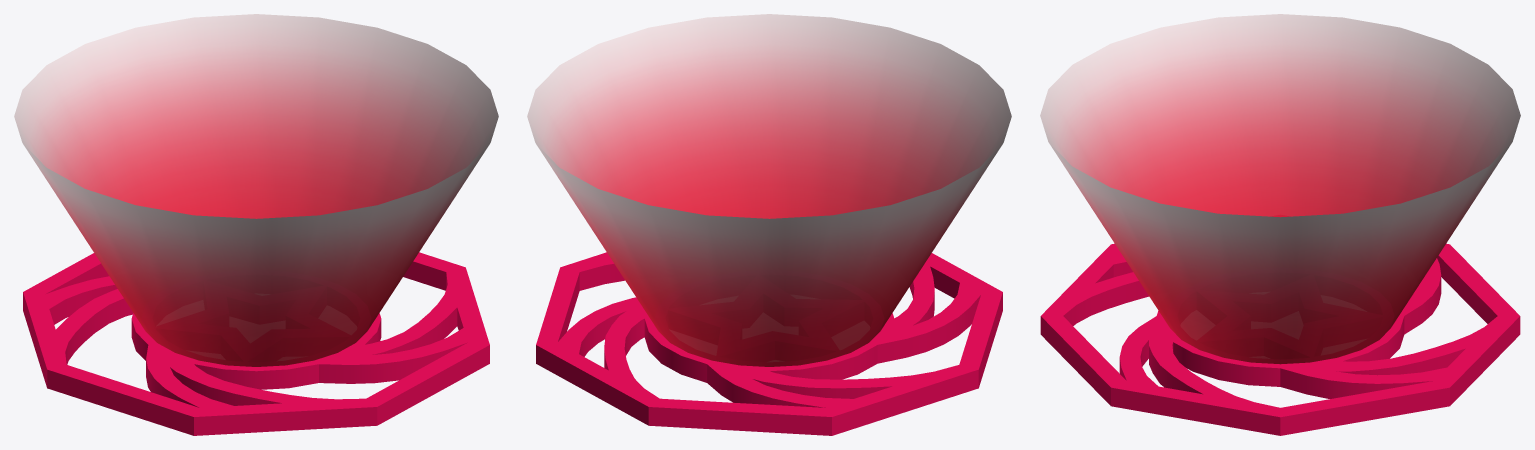
The model's file is yuansu07.4e534ab.glb.
3 renders of one model, left to right at view 1: azimuth 30°, elevation 25°; view 2: azimuth 150°, elevation 25°; view 3: azimuth 270°, elevation 25°, orthographic.
Parts seen in each view (by area): view 1: yuansu07; view 2: yuansu07; view 3: yuansu07.
Boxes of the visible parts, left/top/right/bottom form: yuansu07: left=14, top=14, right=498, bottom=435; yuansu07: left=527, top=14, right=1011, bottom=435; yuansu07: left=1040, top=14, right=1520, bottom=435.
Bounding box in the file's own units: 1.16 × 0.5856 × 1.16.
Materials: 2 (1 with a texture image).
